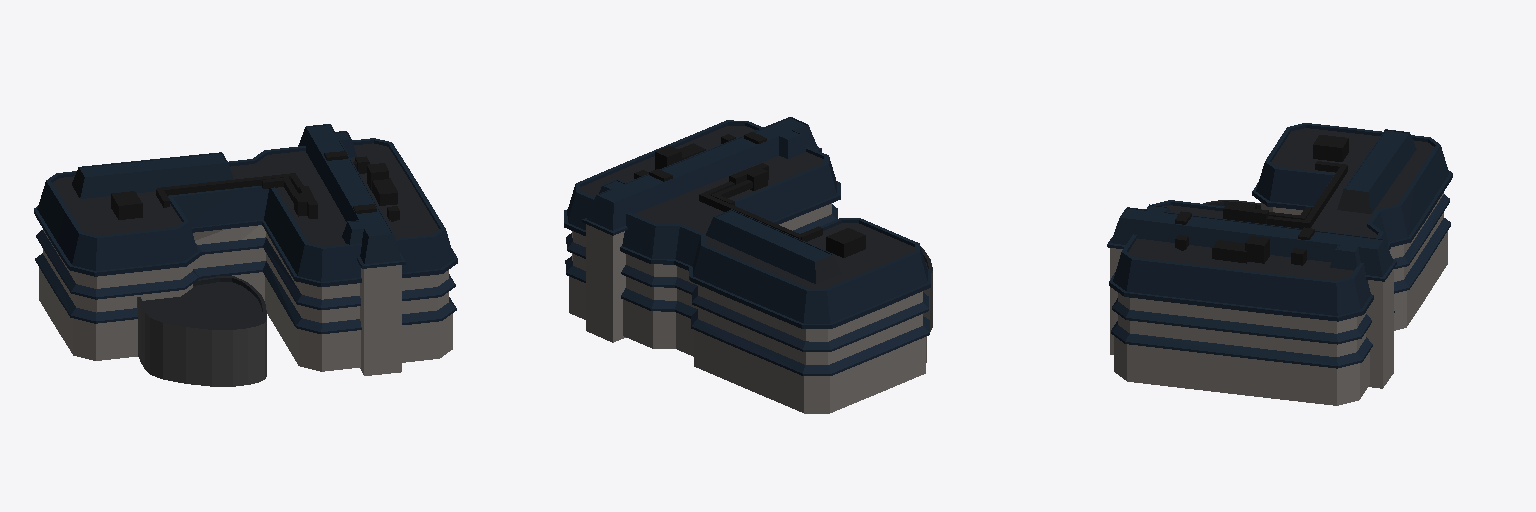
The model's file is weymouthhouse_model_published.obj.
The picture shows the model from 3 angles: view 1: azimuth 30°, elevation 25°; view 2: azimuth 150°, elevation 25°; view 3: azimuth 270°, elevation 25°; orthographic projection.
Parts seen in each view (by area): view 1: Cube.021, Cube.024, Cube.022, Cube.025, Cube.023; view 2: Cube.021, Cube.022, Cube.023, Cube.025; view 3: Cube.021, Cube.022, Cube.025, Cube.023.
Boxes of the visible parts, <box> form: Cube.021: <box>34,138,457,371</box>; Cube.024: <box>137,276,266,386</box>; Cube.022: <box>298,124,405,375</box>; Cube.025: <box>111,151,399,221</box>; Cube.023: <box>72,152,233,198</box>; Cube.021: <box>564,120,930,413</box>; Cube.022: <box>582,117,821,342</box>; Cube.023: <box>706,209,841,283</box>; Cube.025: <box>634,132,865,257</box>; Cube.021: <box>1109,123,1452,405</box>; Cube.022: <box>1107,204,1396,388</box>; Cube.025: <box>1175,135,1348,265</box>; Cube.023: <box>1337,129,1416,213</box>.
Size of the model in its own units: 75.39 by 28.5 by 64.55.